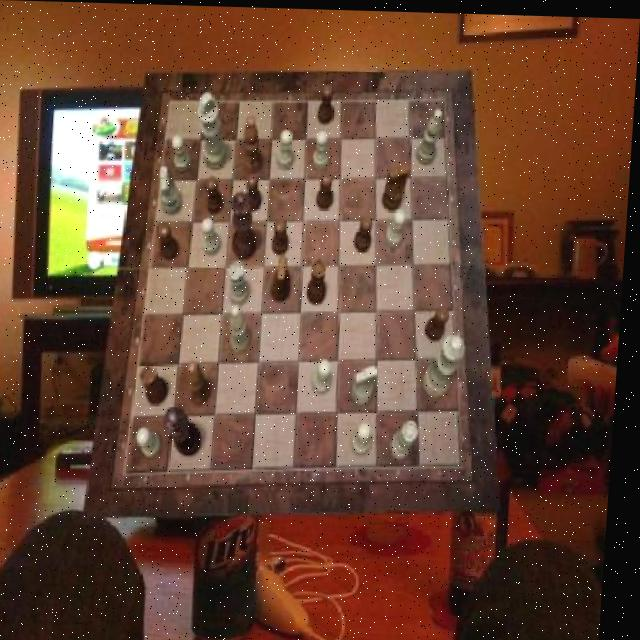bishop: (245, 115, 268, 173), (191, 359, 217, 405)
black-bishop: (167, 408, 209, 456)
black-king: (385, 161, 412, 210), (274, 255, 296, 301)
black-knight: (430, 303, 455, 338), (159, 223, 183, 259), (208, 174, 229, 212), (275, 216, 294, 254), (248, 172, 267, 210), (319, 169, 338, 207), (358, 213, 377, 250), (319, 83, 336, 123)
black-pawn: (231, 192, 262, 260)
black-queen: (144, 364, 176, 405), (311, 257, 332, 303)
black-rook: (418, 105, 445, 162), (233, 303, 258, 352)
white-bishop: (196, 90, 233, 168)
white-king: (159, 167, 186, 215), (356, 363, 382, 405)
white-knight: (204, 216, 226, 254), (173, 133, 195, 171), (143, 425, 169, 457), (388, 208, 409, 246), (357, 419, 378, 454), (280, 128, 298, 167), (315, 129, 333, 168), (317, 357, 336, 392)
white-pawn: (427, 332, 471, 397)
white-queen: (395, 417, 424, 458), (231, 260, 255, 304)
